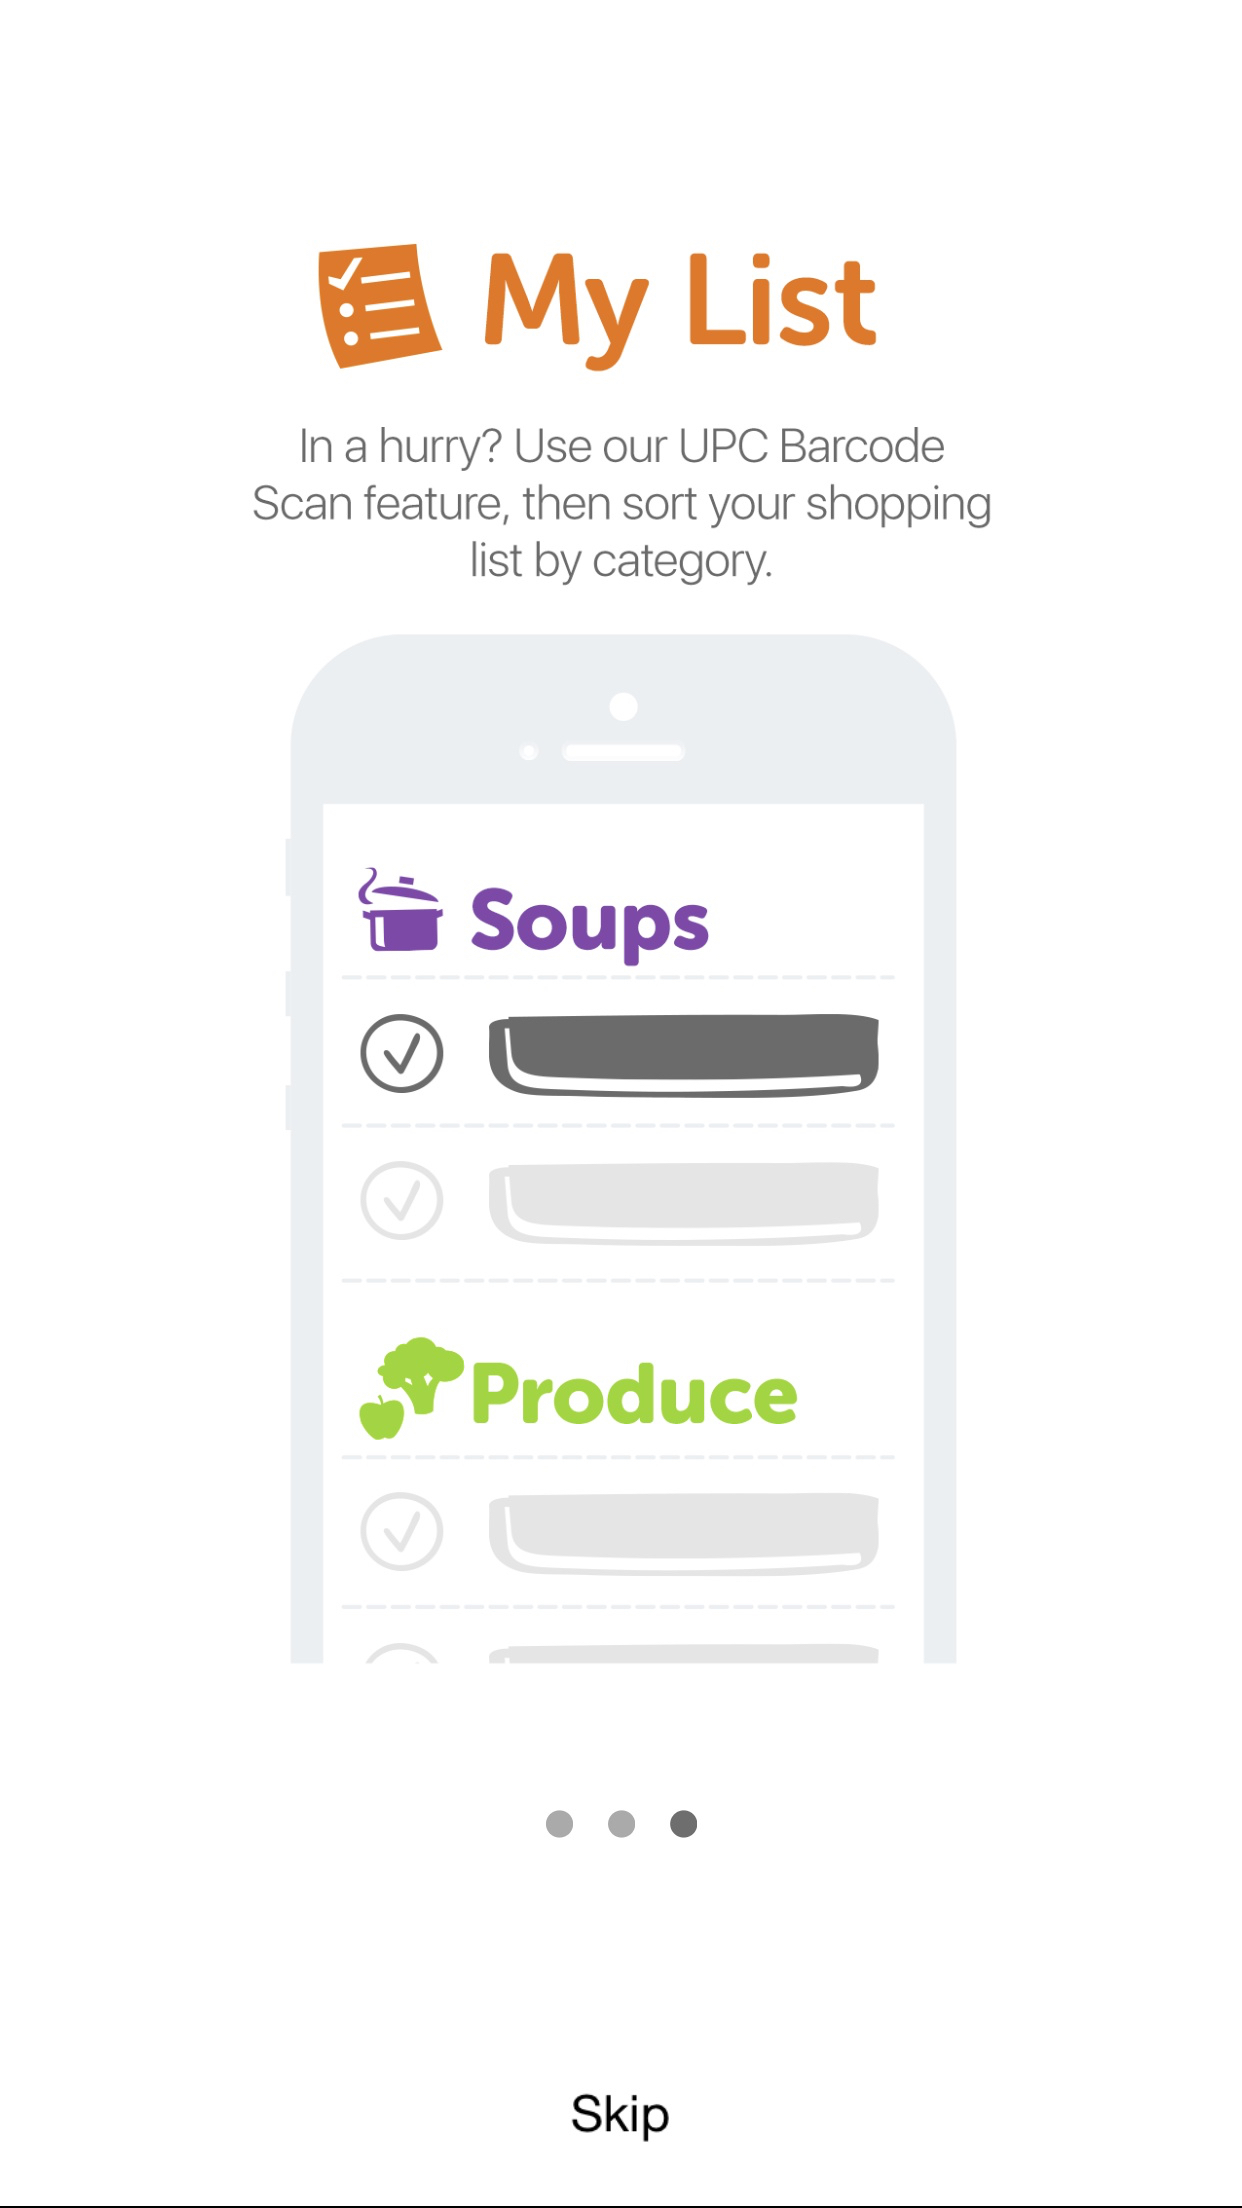Icon: (318, 244, 444, 372)
Image: (285, 634, 958, 1665)
PageIndicator: (544, 1809, 698, 1839)
Text: (252, 428, 990, 587), (484, 253, 877, 373), (572, 2093, 670, 2141)
